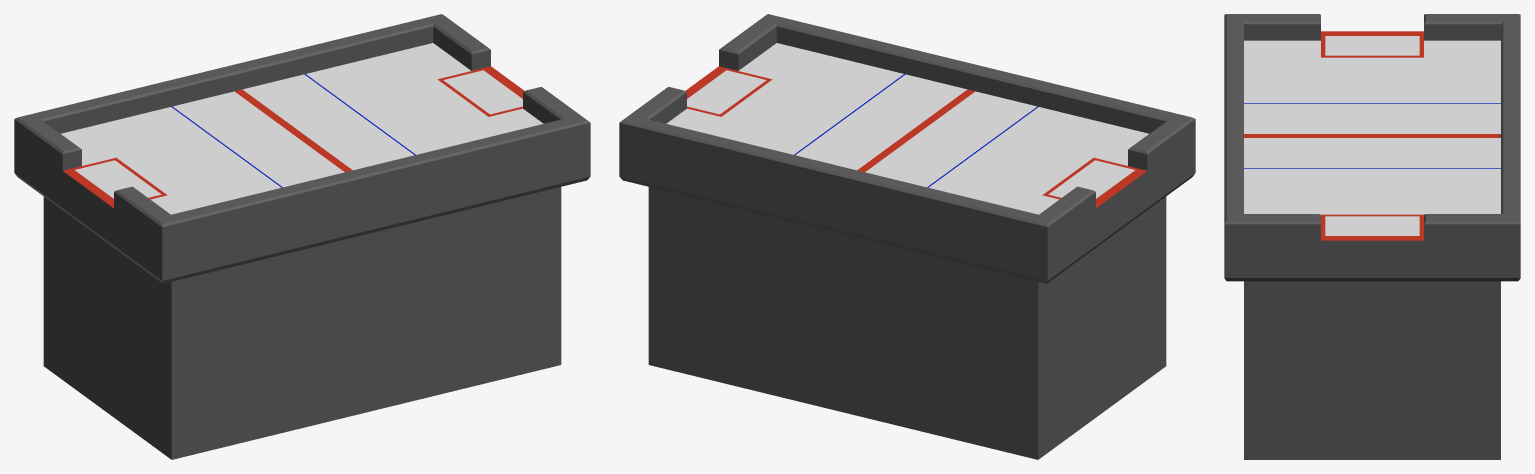
The model's file is Air Hockey Table.fbx.
3 renders of one model, left to right at view 1: azimuth 30°, elevation 25°; view 2: azimuth 150°, elevation 25°; view 3: azimuth 270°, elevation 25°, orthographic.
Visible parts, largest first — view 1: Cube; view 2: Cube; view 3: Cube.
Part boxes in pixels (<box>): Cube: <box>14,14,590,459</box>; Cube: <box>619,14,1195,459</box>; Cube: <box>1224,14,1520,459</box>.
Bounding box in the file's own units: 2162 × 1188 × 1292.
